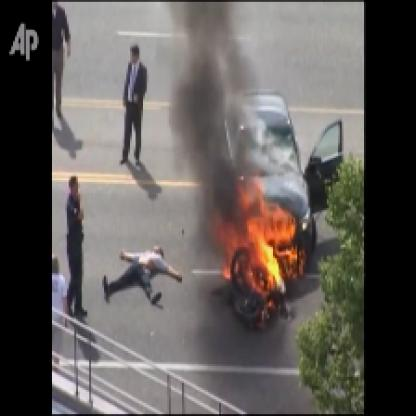Fire: (212, 175, 299, 295)
Smoke: (169, 2, 264, 219)
